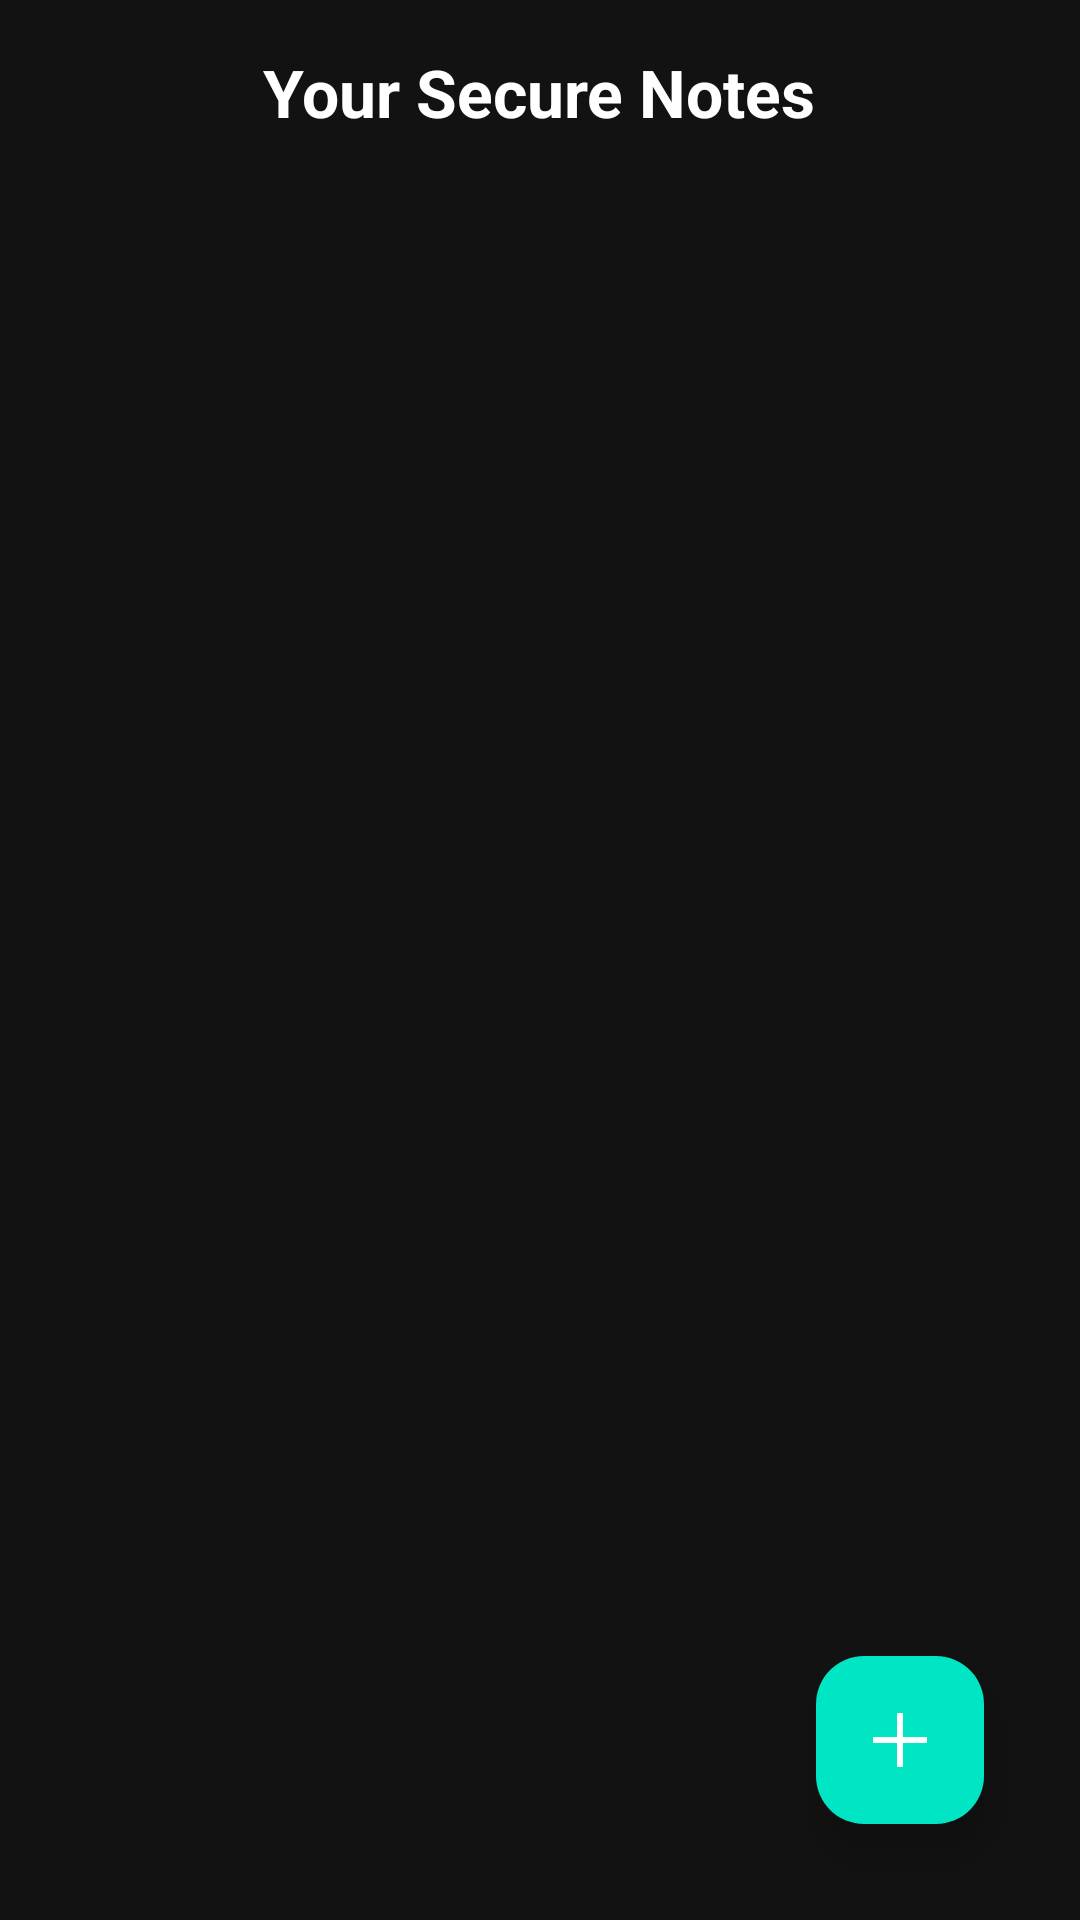

Where icons sit on this 1080 x 1920 app screen, as (x1, y1, x2, y2):
Add Note: (816, 1656, 984, 1824)
